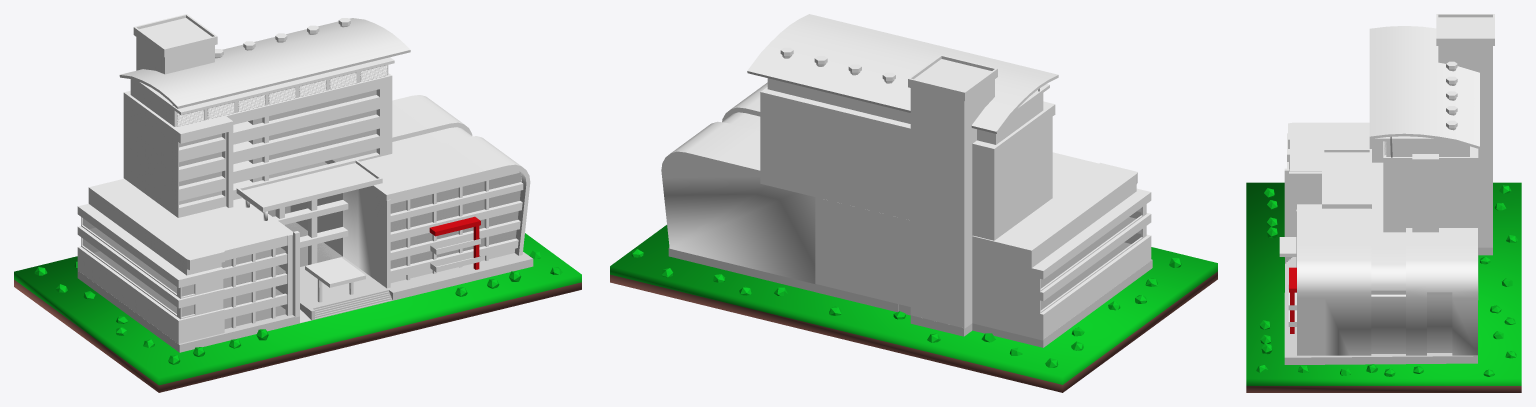
Rendered from ProMS.glb.
3 renders of one model, left to right at view 1: azimuth 30°, elevation 25°; view 2: azimuth 150°, elevation 25°; view 3: azimuth 270°, elevation 25°, orthographic. The views are drawn at different scales.
Parts seen in each view (by area): view 1: Cube.003, Cube.002, Plane.002, Cube.001, Plane, Cube.005, Cube.007, Cube.010, Cube.006, Cube.018, Cube.011, Cube.019 (+14 smaller); view 2: Plane.002, Cube.002, Cube.003, Cube.001, Cube.010, Plane, Cube.006, Cube.011, Cube.019, Cube.020, Cube.018, Cube.023 (+1 smaller); view 3: Cube.001, Plane.002, Plane, Cube.002, Cube.010, Cube.003, Cube.007, Cube.020, Cube.013, Cube.011, Cube.006, Cylinder.003 (+1 smaller).
Boxes of the visible parts, x1,y1,x2,y2 form: Cube.003: [77, 178, 292, 343]; Cube.002: [123, 73, 392, 217]; Plane.002: [14, 233, 581, 392]; Cube.001: [325, 95, 530, 288]; Plane: [119, 18, 410, 108]; Cube.005: [390, 169, 523, 282]; Cube.007: [236, 159, 382, 212]; Cube.010: [133, 14, 217, 74]; Cube.006: [243, 193, 348, 266]; Cube.018: [285, 222, 392, 319]; Cube.011: [130, 57, 394, 126]; Cube.019: [77, 270, 299, 352]; Plane.002: [610, 225, 1217, 392]; Cube.002: [760, 87, 1055, 240]; Cube.003: [972, 152, 1151, 340]; Cube.001: [661, 82, 815, 283]; Cube.010: [908, 55, 997, 328]; Plane: [747, 14, 1058, 133]; Cube.006: [815, 197, 910, 306]; Cube.011: [767, 78, 1049, 144]; Cube.019: [910, 259, 1152, 347]; Cube.020: [668, 247, 815, 291]; Cube.018: [815, 284, 898, 312]; Cube.023: [1040, 217, 1135, 288]; Cube.001: [1296, 204, 1477, 355]; Plane.002: [1246, 182, 1521, 392]; Plane: [1369, 26, 1479, 148]; Cube.002: [1369, 137, 1478, 239]; Cube.010: [1436, 14, 1494, 247]; Cube.003: [1287, 122, 1383, 171]; Cube.007: [1322, 149, 1371, 208]; Cube.020: [1284, 292, 1477, 364]; Cube.013: [1284, 168, 1321, 236]; Cube.011: [1374, 136, 1469, 156]; Cube.006: [1372, 171, 1478, 292]; Cylinder.003: [1446, 61, 1457, 130].
Bounding box in the file's own units: 25.15 × 13.89 × 14.93.
